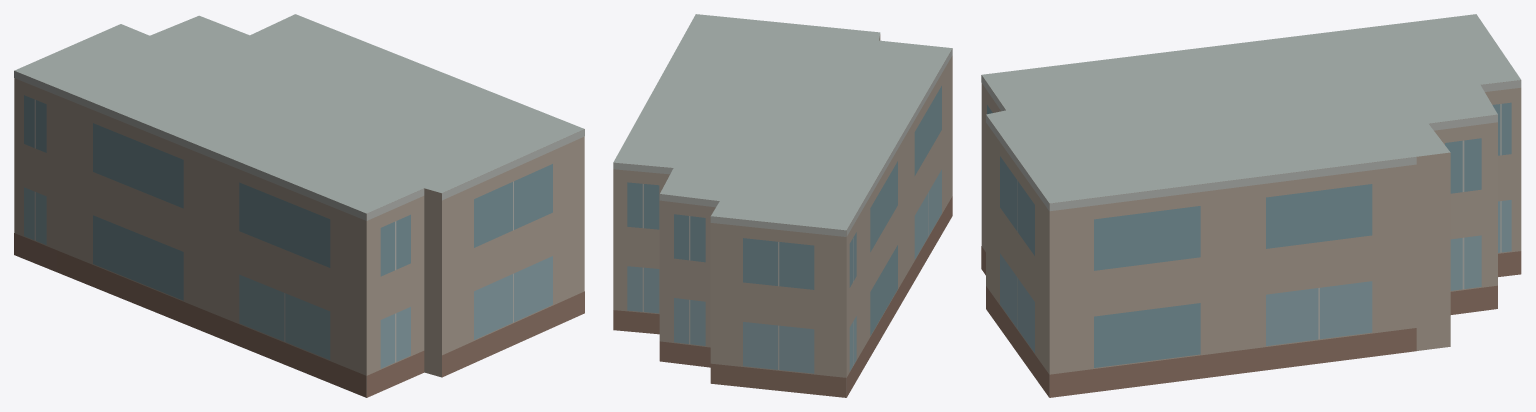
The model's file is survey-upis-32885910.glb.
3 views of the same model, side by side, from view 1: azimuth 30°, elevation 25°; view 2: azimuth 150°, elevation 25°; view 3: azimuth 270°, elevation 25° (orthographic). The views are drawn at different scales.
Visible parts, largest first — view 1: survey-upis-32885910.tmp; view 2: survey-upis-32885910.tmp; view 3: survey-upis-32885910.tmp.
Part boxes in pixels (x1,y1,x2,y2): survey-upis-32885910.tmp: (14,14,584,397); survey-upis-32885910.tmp: (613,14,952,397); survey-upis-32885910.tmp: (981,14,1521,397).
Bounding box in the file's own units: 12.77 × 6.1 × 15.37.
